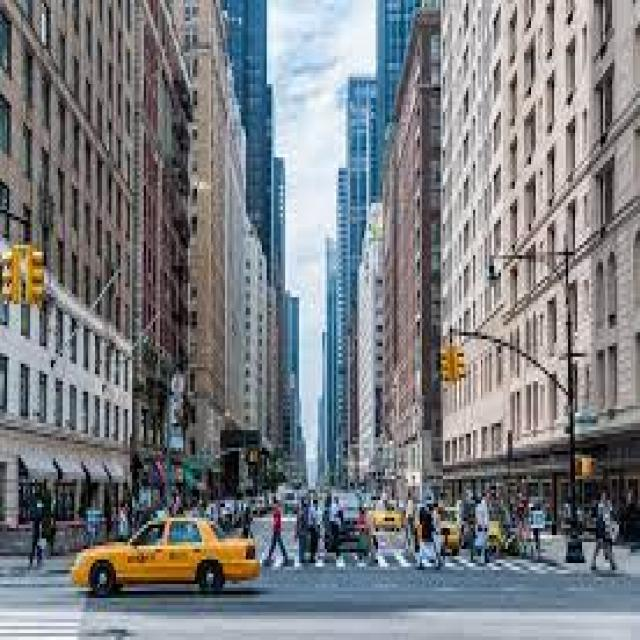Passenger Car: (70, 514, 262, 595)
Pedestrians: (262, 500, 295, 567)
